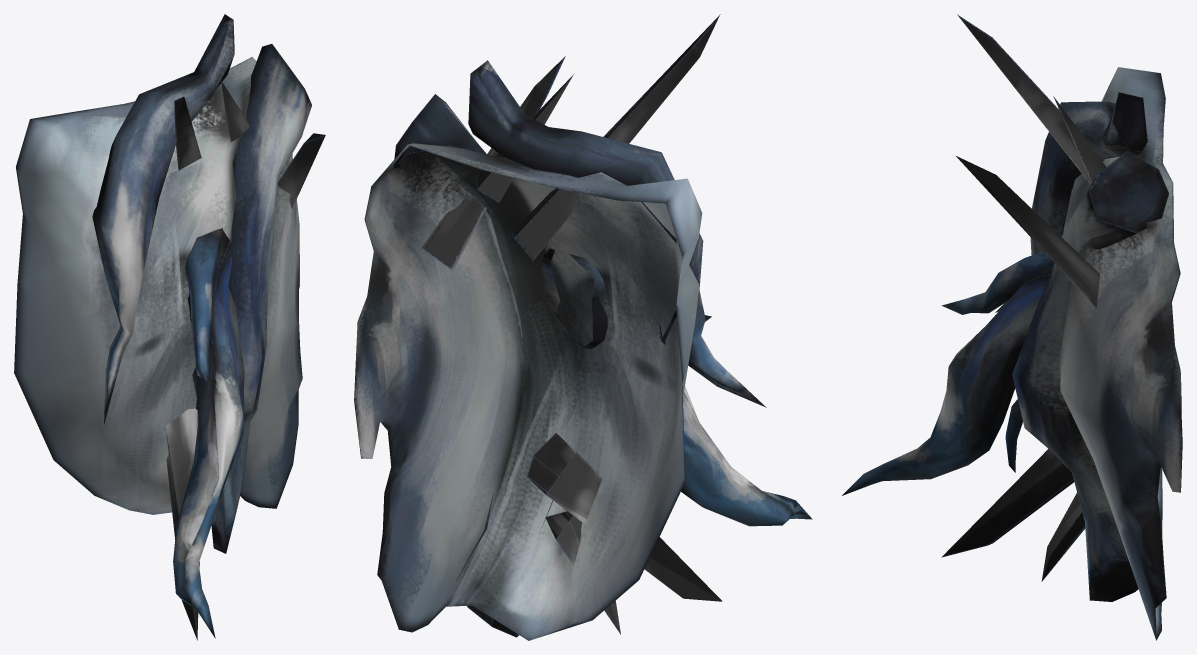
The model's file is trap_106_smtree.glb.
The picture shows the model from 3 angles, left to right: view 1: azimuth 30°, elevation 25°; view 2: azimuth 150°, elevation 25°; view 3: azimuth 270°, elevation 25°; orthographic projection. The views are drawn at different scales.
Visible parts, largest first — view 1: Trap_106_smtree; view 2: Trap_106_smtree; view 3: Trap_106_smtree.
Part boxes in pixels (<box>): Trap_106_smtree: <box>14,14,325,640</box>; Trap_106_smtree: <box>354,14,812,640</box>; Trap_106_smtree: <box>842,14,1182,640</box>.
Size of the model in its own units: 0.6423 by 1.16 by 0.6571.
Materials: 1 (1 with a texture image).
